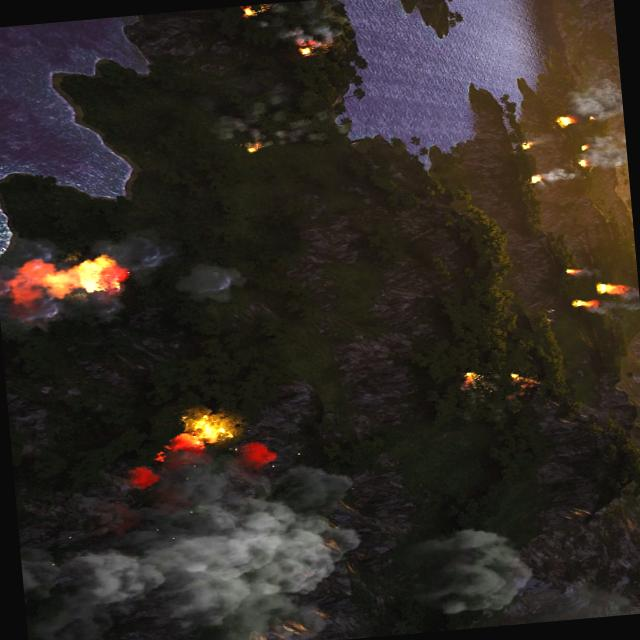fire: (170, 412, 233, 451), (508, 370, 540, 392), (594, 280, 626, 296), (458, 371, 479, 388), (569, 299, 598, 308), (238, 5, 255, 16), (556, 116, 571, 128), (528, 173, 542, 185), (242, 144, 259, 153), (296, 47, 312, 56), (517, 140, 531, 149), (576, 146, 588, 152), (562, 269, 576, 274), (575, 162, 585, 168), (588, 114, 595, 120)
smoke: (14, 433, 370, 640), (0, 219, 248, 354), (403, 520, 532, 616), (198, 69, 300, 148), (248, 0, 348, 53), (567, 77, 624, 125), (579, 132, 628, 170), (542, 166, 572, 186)
